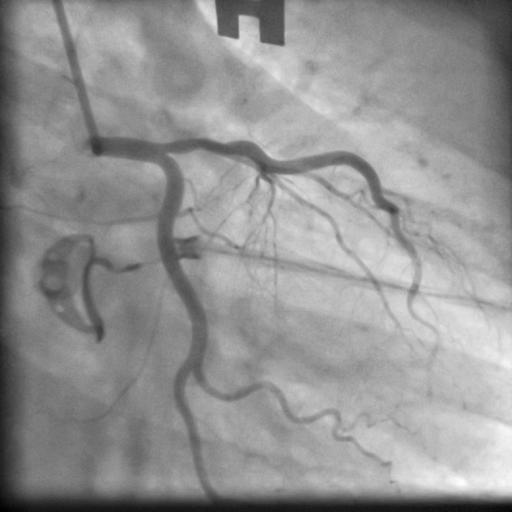Stenosis: (177, 133, 224, 155)
